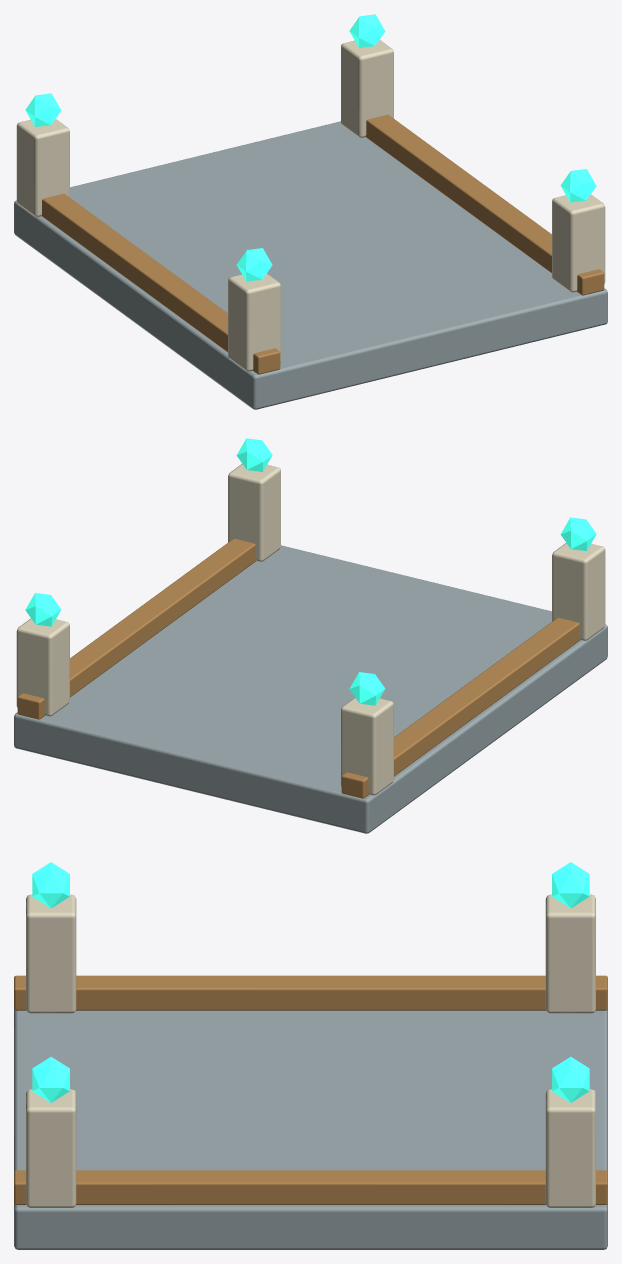
Rendered from river-bridge.glb.
3 renders of one model, top to bottom at view 1: azimuth 30°, elevation 25°; view 2: azimuth 150°, elevation 25°; view 3: azimuth 270°, elevation 25°, orthographic. The views are drawn at different scales.
Parts seen in each view (by area): view 1: river-crossing; view 2: river-crossing; view 3: river-crossing.
Part boxes in pixels (box(x1,y1,x2,y2)): river-crossing: box(14, 14, 607, 409); river-crossing: box(14, 438, 607, 833); river-crossing: box(14, 862, 607, 1249).
Bounding box in the file's own units: 3.44 × 1.34 × 4.
